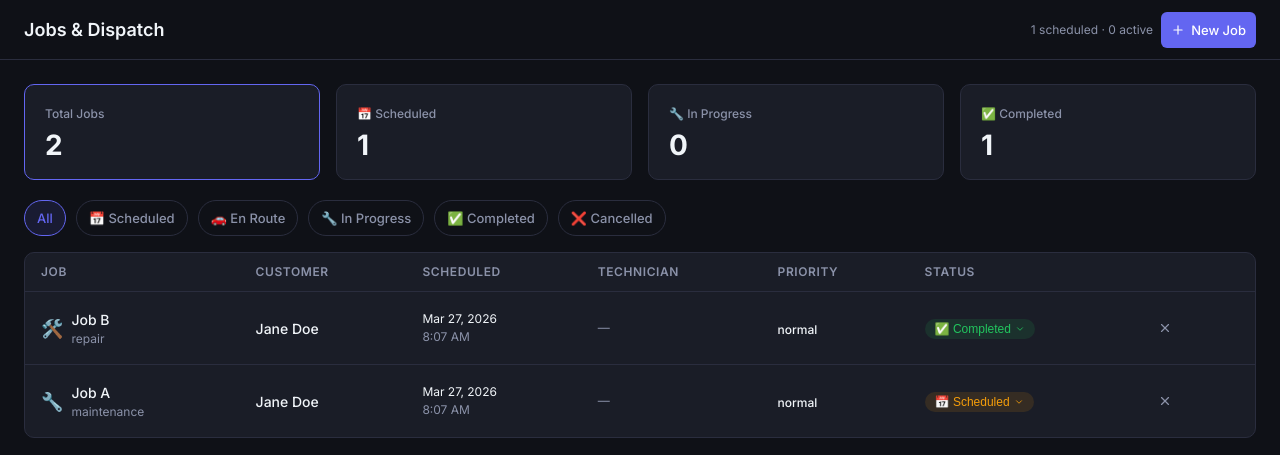
Test: JobsPage › filters by status
Note: Use the filter-chip class specifically
Click the 5th button with class "filter-chip": coordinates (491, 218) [434,200,548,236]
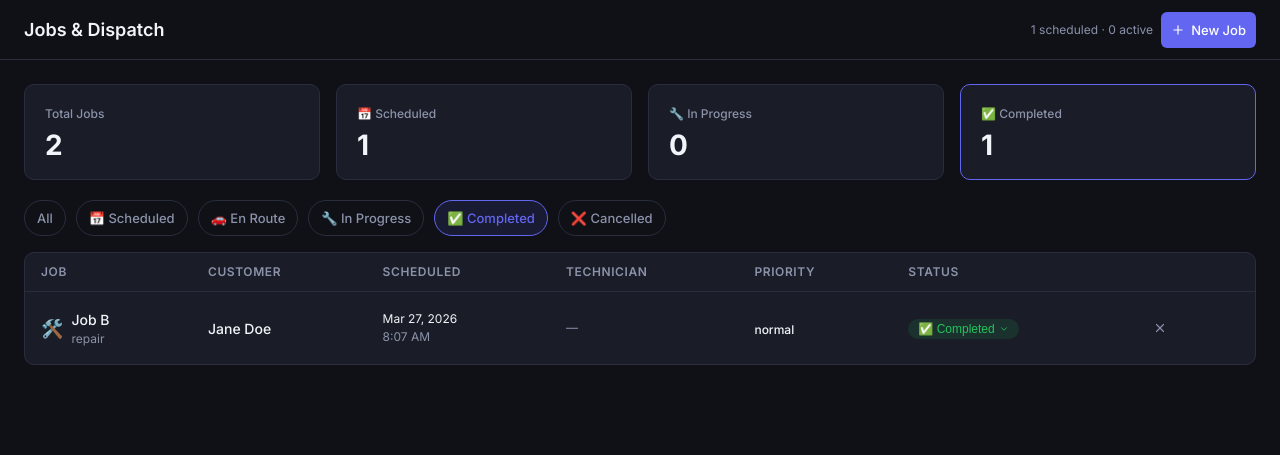
Check: the text "Job B" is shown, box [72,308,110,330]
Check: the number of rows with test id "job-row" is 1, box [25,292,1255,364]
